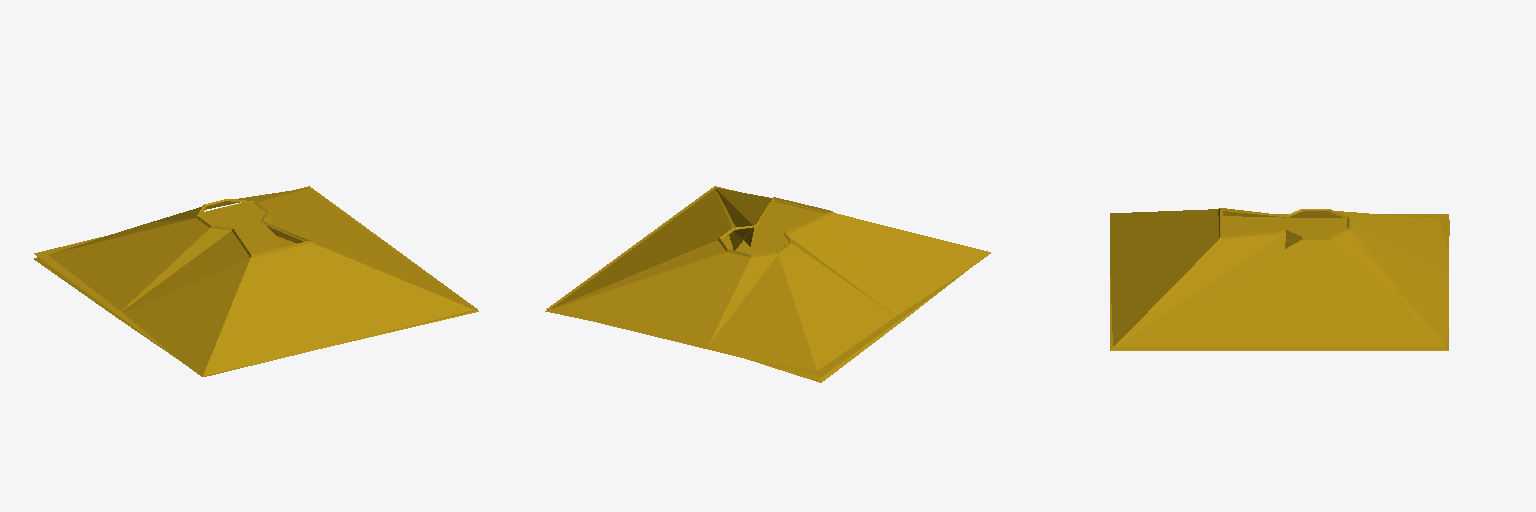
Rendered from Lock1.obj.
3 renders of one model, left to right at view 1: azimuth 30°, elevation 25°; view 2: azimuth 150°, elevation 25°; view 3: azimuth 270°, elevation 25°, orthographic.
Parts seen in each view (by area): view 1: BottomKey_BottomKey, Plane001_Plane001; view 2: BottomKey_BottomKey, Plane001_Plane001; view 3: BottomKey_BottomKey, Plane001_Plane001.
Part boxes in pixels (left/top/right/bottom): BottomKey_BottomKey: left=34, top=188, right=478, bottom=375; Plane001_Plane001: left=34, top=186, right=477, bottom=376; BottomKey_BottomKey: left=545, top=188, right=990, bottom=382; Plane001_Plane001: left=546, top=186, right=990, bottom=376; BottomKey_BottomKey: left=1110, top=208, right=1449, bottom=350; Plane001_Plane001: left=1110, top=214, right=1448, bottom=348.
Size of the model in its own units: 26.59 by 5.77 by 28.32.